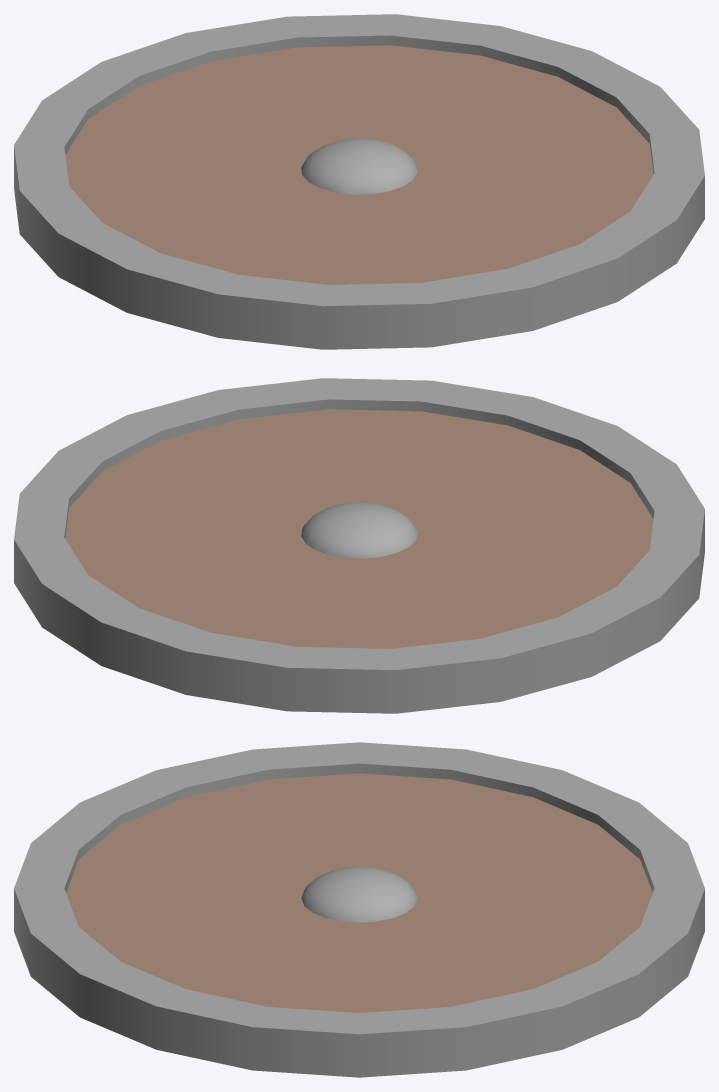
File: P_gareth_shield_new.fbx
3 renders of one model, top to bottom at view 1: azimuth 30°, elevation 25°; view 2: azimuth 150°, elevation 25°; view 3: azimuth 270°, elevation 25°, orthographic.
Visible parts, largest first — view 1: pCylinder2; view 2: pCylinder2; view 3: pCylinder2.
Part boxes in pixels (box(x1,y1,x2,y2)): pCylinder2: box(14, 14, 704, 349); pCylinder2: box(14, 378, 704, 713); pCylinder2: box(14, 742, 704, 1077).
Size of the model in its own units: 211 by 18.57 by 211.
